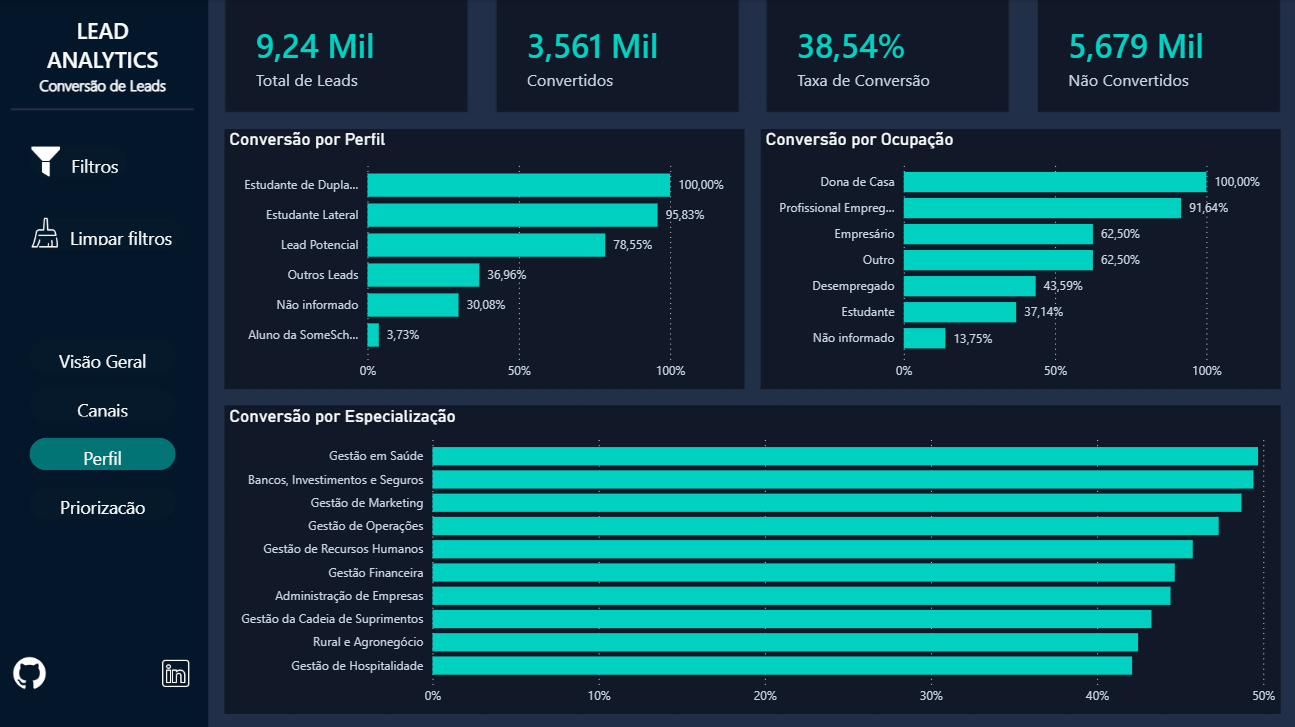

The page's visual inventory and layout, read from the dashboard file:
{"tool":"powerbi","page":{"name":"03 Perfil","canvas":[1280,720],"ordinal":2},"visuals":[{"type":"shape","box":[0,0,208,720],"z":0,"group":"g1"},{"type":"cardVisual","fields":{"Data":["leads_tratados_mvp1.Total de Leads"]},"box":[224,0,240,112],"z":0},{"type":"actionButton","title":"Filtros","box":[32,336,144,32],"z":250,"group":"g1"},{"type":"image","box":[0,640,64,48],"z":500,"group":"g1"},{"type":"actionButton","title":"Filtros","box":[32,480,144,32],"z":625,"group":"g1"},{"type":"actionButton","box":[32,384,144,32],"z":750,"group":"g1"},{"type":"actionButton","box":[32,432,144,32],"z":875,"group":"g1"},{"type":"cardVisual","fields":{"Data":["leads_tratados_mvp1.Leads Convertidos"]},"box":[490.7,0,240,112],"z":1000},{"type":"textbox","box":[0,10.8,207.8,89.1],"z":1000,"group":"g1"},{"type":"textbox","box":[0,70.7,208,41.8],"z":2000,"group":"g1"},{"type":"barChart","title":"Conversão por Ocupação","fields":{"Category":["leads_tratados_mvp1.ocupacao_atual"],"Y":["leads_tratados_mvp1.Taxa de Conversão"]},"box":[752,128,512,256],"z":2000},{"type":"cardVisual","fields":{"Data":["leads_tratados_mvp1.Leads Não Convertidos"]},"box":[1024,0,240,112],"z":3000},{"type":"shape","box":[13.3,69.3,180.2,79.4],"z":3000,"group":"g1"},{"type":"cardVisual","fields":{"Data":["leads_tratados_mvp1.Taxa de Conversão"]},"box":[757.3,0,240,112],"z":4000},{"type":"actionButton","title":"Filtros","box":[32,144,96,32],"z":4000,"group":"g1"},{"type":"barChart","title":"Conversão por Perfil","fields":{"Category":["leads_tratados_mvp1.perfil_do_lead"],"Y":["leads_tratados_mvp1.Taxa de Conversão"]},"box":[224,128,512,256],"z":5000},{"type":"image","box":[32,144,32,32],"z":5000,"group":"g1"},{"type":"actionButton","title":"Filtros","box":[37,215,144,32],"z":5500,"group":"g1"},{"type":"image","box":[160,640,32,48],"z":5750,"group":"g1"},{"type":"image","box":[32,215,32,32],"z":6000,"group":"g1"},{"type":"image","box":[32,144,32,32],"z":8000},{"type":"barChart","title":"Conversão por Especialização","fields":{"Y":["leads_tratados_mvp1.Taxa de Conversão"],"Category":["leads_tratados_mvp1.especializacao"]},"box":[224,400,1040,304],"z":9000},{"type":"group","id":"g1","title":"Grupo 2","box":[0,0,208,720],"z":11000}]}

Visuals, with their boxes in screenshot pixels (x1, y1, x2, y2), scaled from the page's 1280x720 canvas onto the 1295x727 screenshot:
shape: (left=0, top=0, right=210, bottom=726)
cardVisual - leads_tratados_mvp1.Total de Leads: (left=227, top=0, right=469, bottom=113)
"Filtros" actionButton: (left=32, top=339, right=178, bottom=372)
image: (left=0, top=646, right=65, bottom=695)
"Filtros" actionButton: (left=32, top=485, right=178, bottom=517)
actionButton: (left=32, top=388, right=178, bottom=420)
actionButton: (left=32, top=436, right=178, bottom=469)
cardVisual - leads_tratados_mvp1.Leads Convertidos: (left=496, top=0, right=739, bottom=113)
textbox: (left=0, top=11, right=210, bottom=101)
textbox: (left=0, top=71, right=210, bottom=114)
"Conversão por Ocupação" barChart: (left=761, top=129, right=1279, bottom=388)
cardVisual - leads_tratados_mvp1.Leads Não Convertidos: (left=1036, top=0, right=1279, bottom=113)
shape: (left=13, top=70, right=196, bottom=150)
cardVisual - leads_tratados_mvp1.Taxa de Conversão: (left=766, top=0, right=1009, bottom=113)
"Filtros" actionButton: (left=32, top=145, right=130, bottom=178)
"Conversão por Perfil" barChart: (left=227, top=129, right=745, bottom=388)
image: (left=32, top=145, right=65, bottom=178)
"Filtros" actionButton: (left=37, top=217, right=183, bottom=249)
image: (left=162, top=646, right=194, bottom=695)
image: (left=32, top=217, right=65, bottom=249)
image: (left=32, top=145, right=65, bottom=178)
"Conversão por Especialização" barChart: (left=227, top=404, right=1279, bottom=711)
"Grupo 2" group: (left=0, top=0, right=210, bottom=726)
